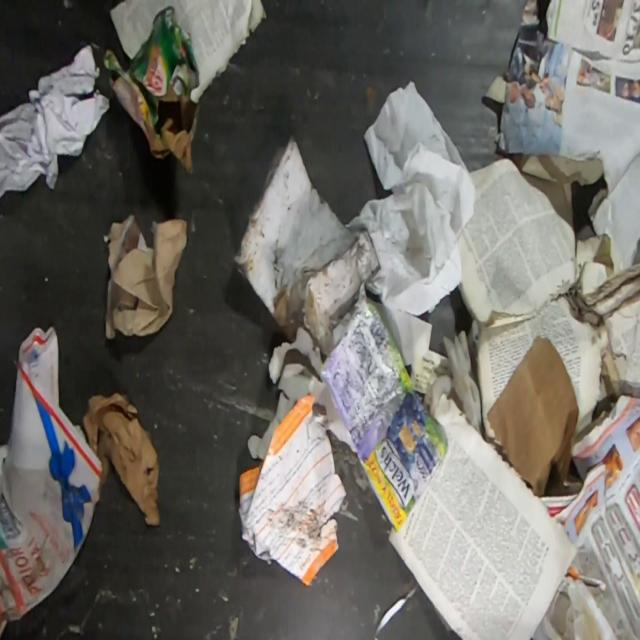cardboard: (0, 326, 102, 639), (95, 0, 201, 183), (81, 391, 160, 525)
soft_plastic: (320, 302, 443, 531)
